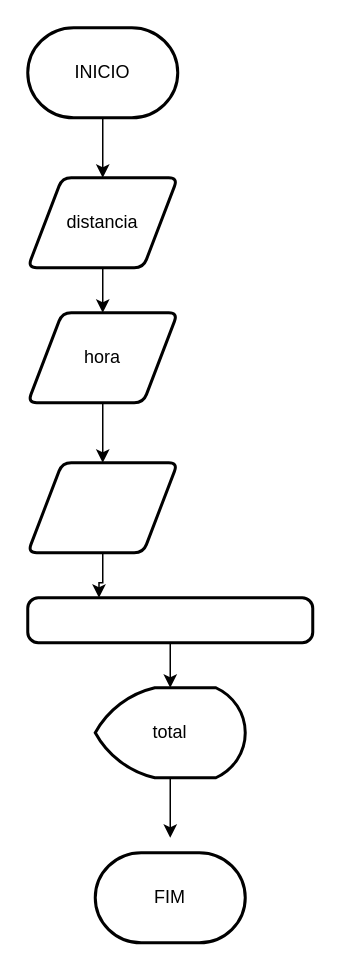
This 339x969 diagram has some shape labels left out. The shapes that lost their labels are listed below. From the top down, each one's centre as x and y in pixels, then its label:
the point at 102,507: min
the point at 170,620: total=percurso/((min/60)+horas)
